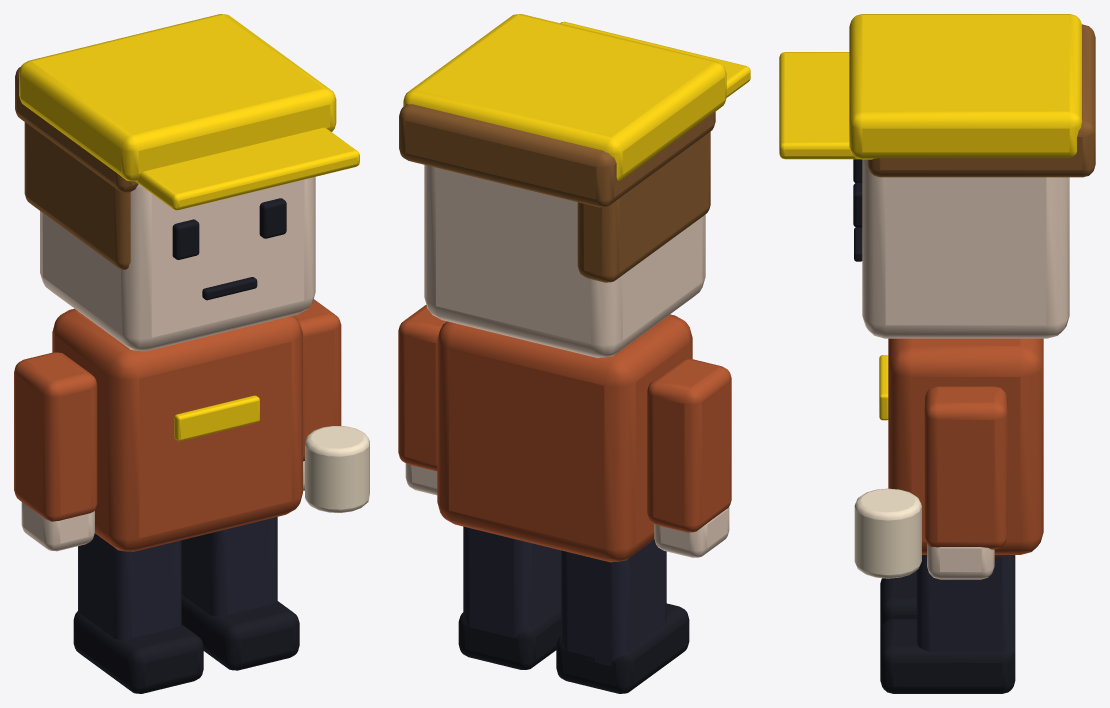
The model's file is pablo.glb.
3 views of the same model, side by side, from view 1: azimuth 30°, elevation 25°; view 2: azimuth 150°, elevation 25°; view 3: azimuth 270°, elevation 25° (orthographic). The views are drawn at different scales.
Visible parts, largest first — view 1: Jacket, Cap, Face, Arm_L_sleeve, CapBrim, Leg_L_trouser, HairSide, Leg_R_trouser, Leg_L_shoe, Leg_R_shoe, Mug, Arm_R_sleeve (+6 smaller); view 2: Jacket, Face, Cap, Hair, Arm_L_sleeve, HairSide, Leg_L_trouser, Leg_R_trouser, Arm_R_sleeve, Leg_L_shoe, Leg_R_shoe, Arm_L_hand (+2 smaller); view 3: Face, Cap, Jacket, Arm_R_sleeve, Leg_R_trouser, CapBrim, Leg_R_shoe, Hair, Mug, Arm_R_hand, Leg_L_shoe, ChestBadge.
Part boxes in pixels (x1,y1,x2,y2): Jacket: (52,308,302,551); Cap: (19,14,336,181); Face: (40,177,315,351); Arm_L_sleeve: (14,352,97,521); CapBrim: (136,127,359,210); Leg_L_trouser: (78,533,181,639); HairSide: (24,122,130,269); Leg_R_trouser: (181,517,277,616); Leg_L_shoe: (73,611,203,693); Leg_R_shoe: (181,595,299,670); Mug: (305,426,369,512); Arm_R_sleeve: (293,299,341,461); Jacket: (437,314,692,562); Face: (424,165,705,357); Cap: (403,14,726,181); Hair: (399,104,715,207); Arm_L_sleeve: (647,358,731,532); HairSide: (577,131,710,282); Leg_L_trouser: (561,539,666,666); Leg_R_trouser: (463,526,560,637); Arm_R_sleeve: (398,305,446,471); Leg_L_shoe: (556,603,689,693); Leg_R_shoe: (458,606,560,669); Arm_L_hand: (654,507,729,557); Face: (862,159,1069,338); Cap: (849,14,1081,159); Jacket: (888,338,1043,554); Arm_R_sleeve: (924,386,1007,549); Leg_R_trouser: (916,555,1015,654); CapBrim: (779,52,859,159); Leg_R_shoe: (880,618,1015,693); Hair: (867,24,1095,177); Mug: (854,488,921,578); Arm_R_hand: (927,544,994,579); Leg_L_shoe: (880,571,916,630); ChestBadge: (879,355,888,420).
Bounding box in the file's own units: 0.685 × 1.26 × 0.61.
